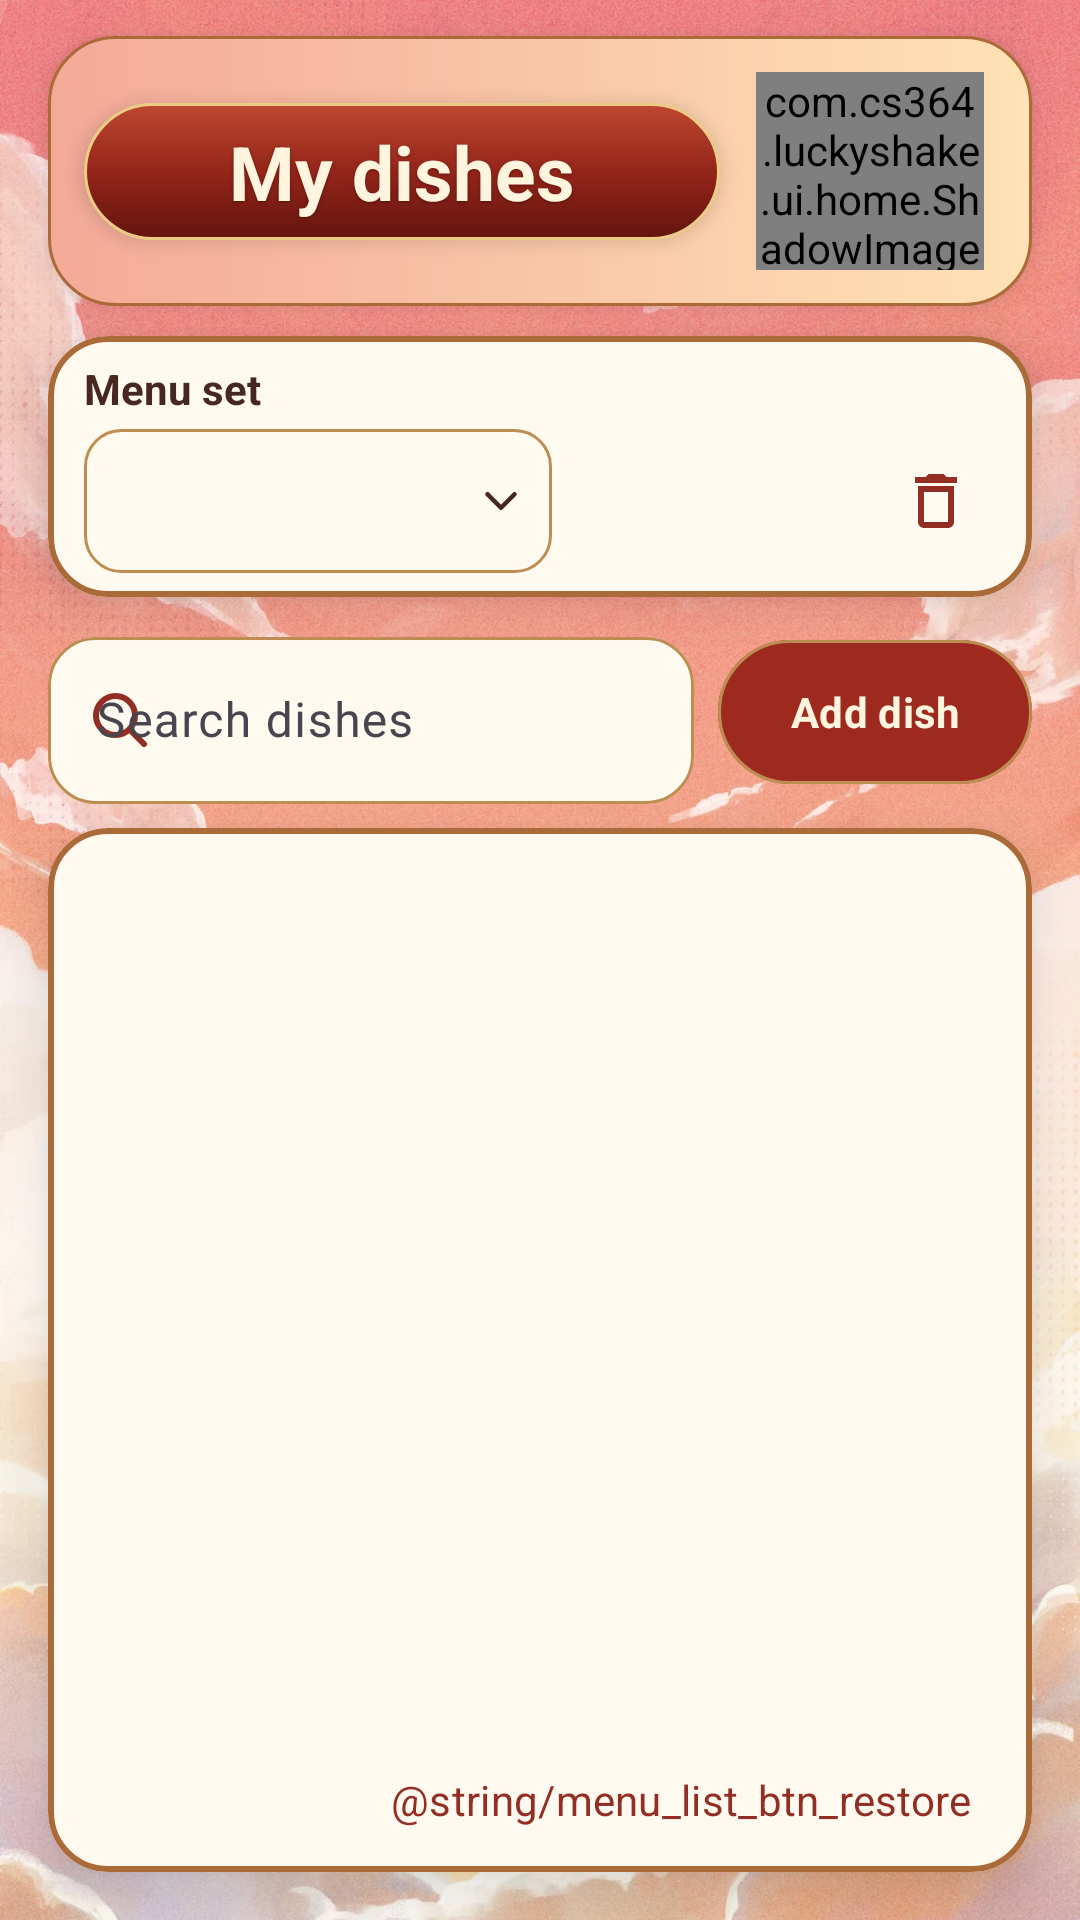

Locate icon controls on the screen. Image size 1080×1920, boxes as (x1, y1, x2, y2).
delete: (915, 474, 957, 528)
